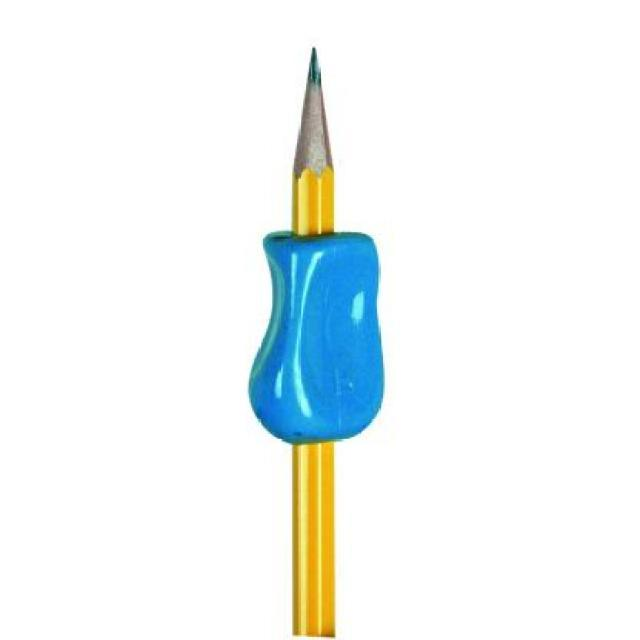pencil: (272, 38, 350, 200)
